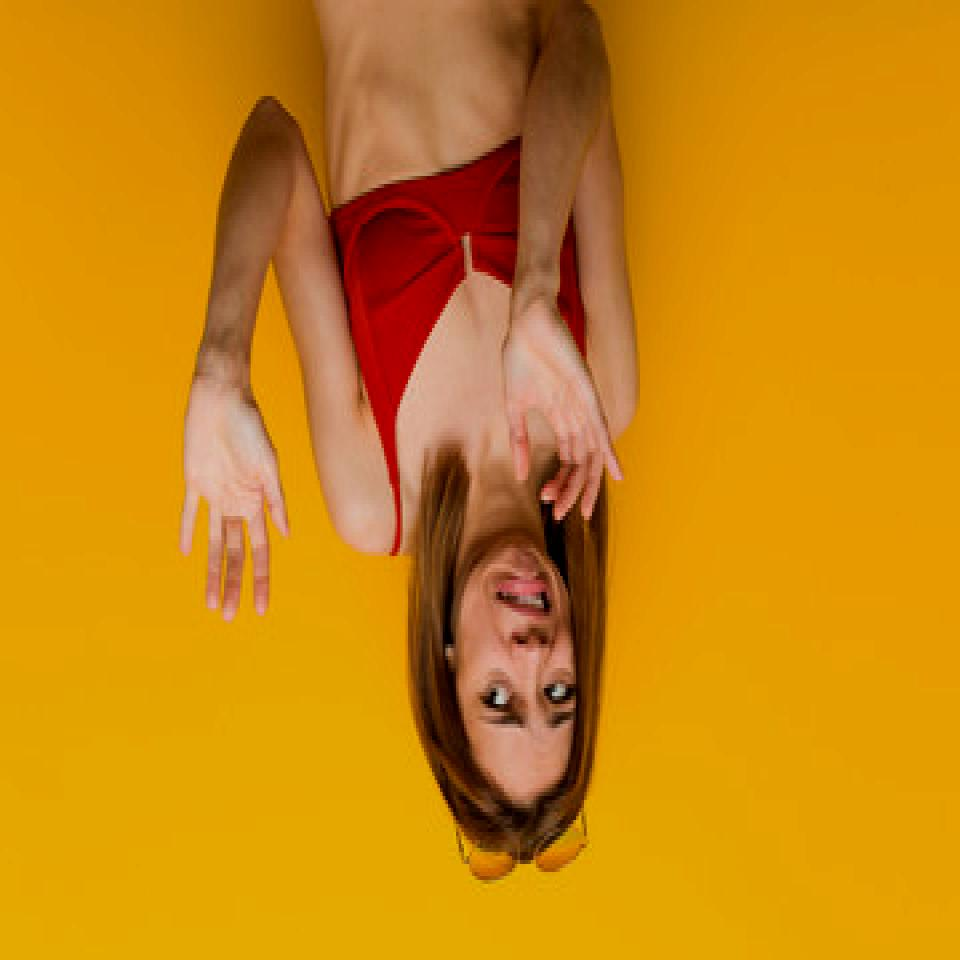Disgust: (449, 536, 589, 796)
